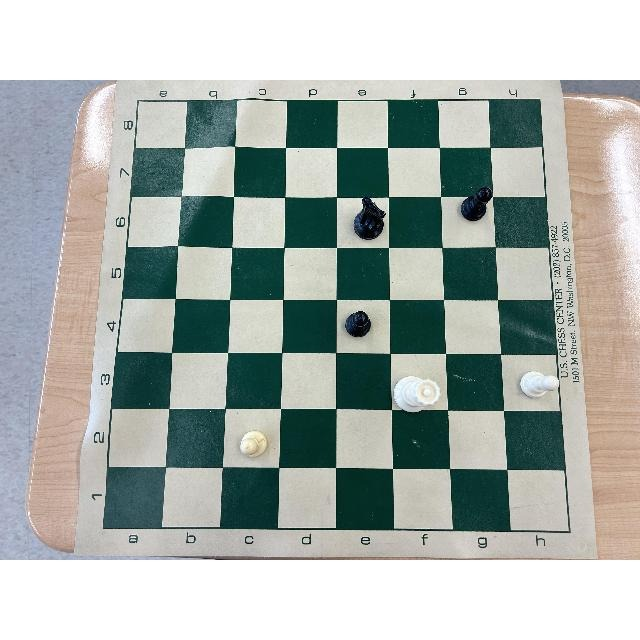black-knight: (354, 196, 386, 240)
black-pawn: (460, 187, 492, 221), (345, 311, 371, 337)
white-pawn: (518, 371, 560, 399), (239, 430, 268, 458)
white-queen: (393, 376, 441, 414)
